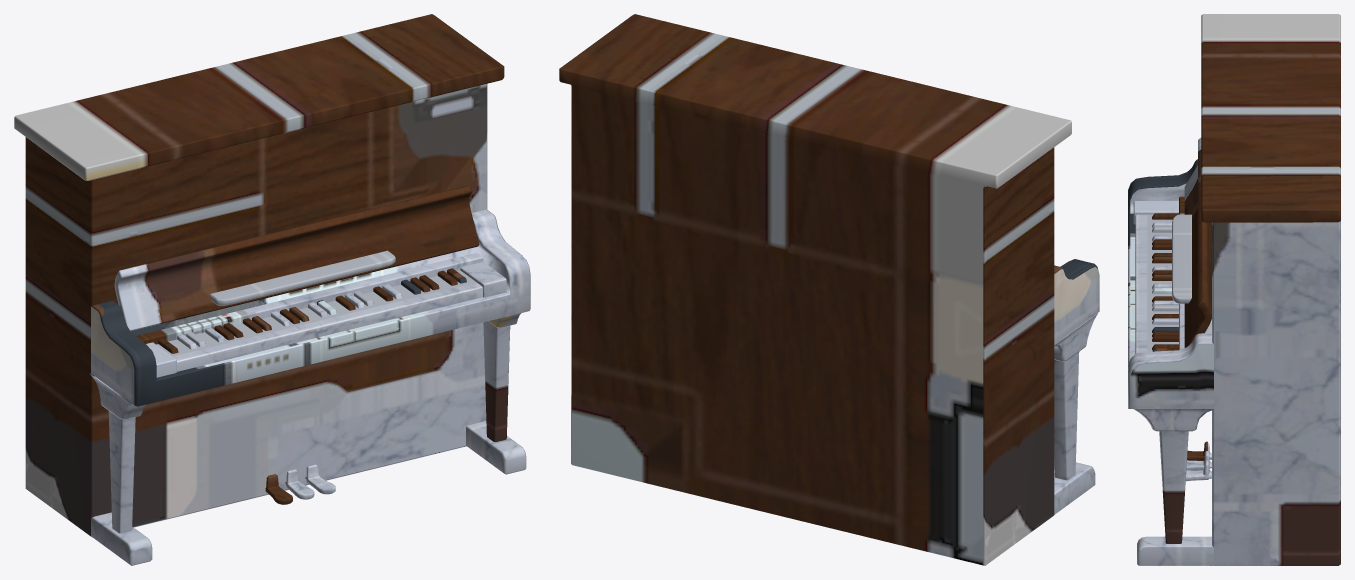
Rendered from piano_street.fbx.
The picture shows the model from 3 angles, left to right: view 1: azimuth 30°, elevation 25°; view 2: azimuth 150°, elevation 25°; view 3: azimuth 270°, elevation 25°; orthographic projection. The views are drawn at different scales.
Parts seen in each view (by area): view 1: PianoStreet; view 2: PianoStreet; view 3: PianoStreet.
Part boxes in pixels (<box>): PianoStreet: <box>14,14,530,565</box>; PianoStreet: <box>559,14,1099,565</box>; PianoStreet: <box>1128,14,1340,565</box>.
Size of the model in its own units: 472 by 405 by 216.
